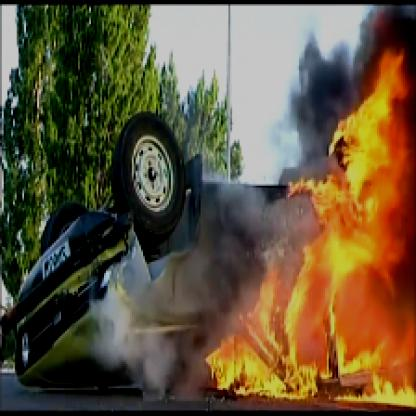Fire: (204, 45, 414, 414)
